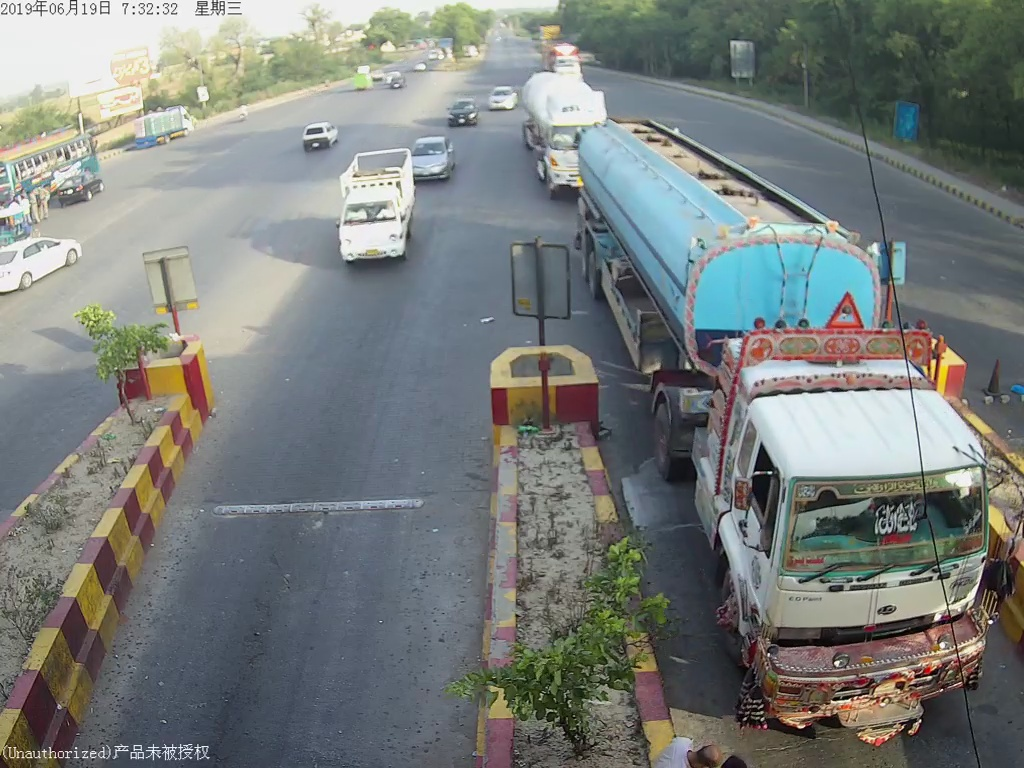Cat-2: (327, 156, 426, 266)
Cat-5: (581, 130, 987, 735)
